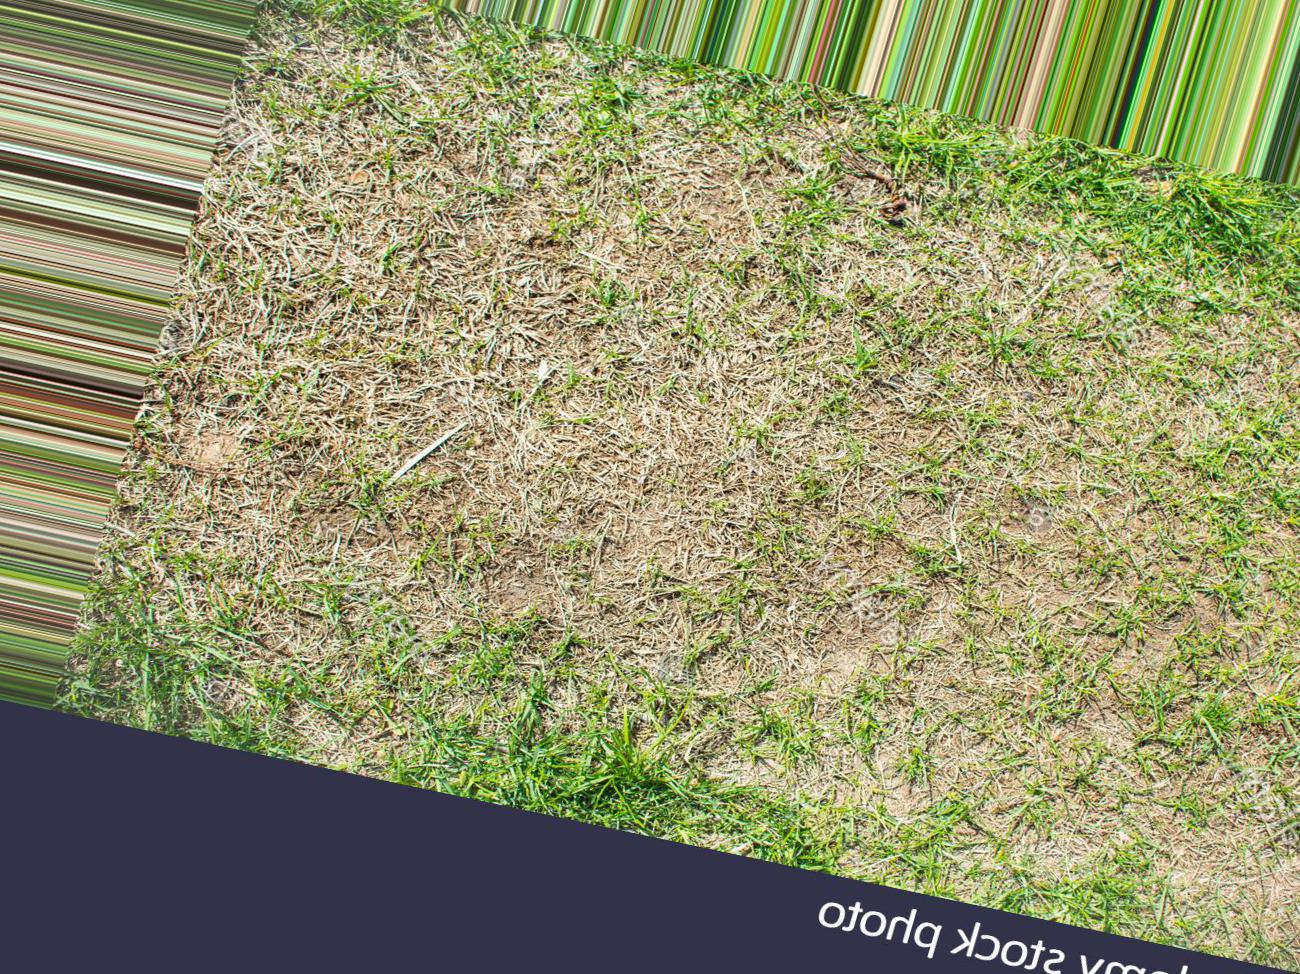patch: (334, 127, 884, 690)
